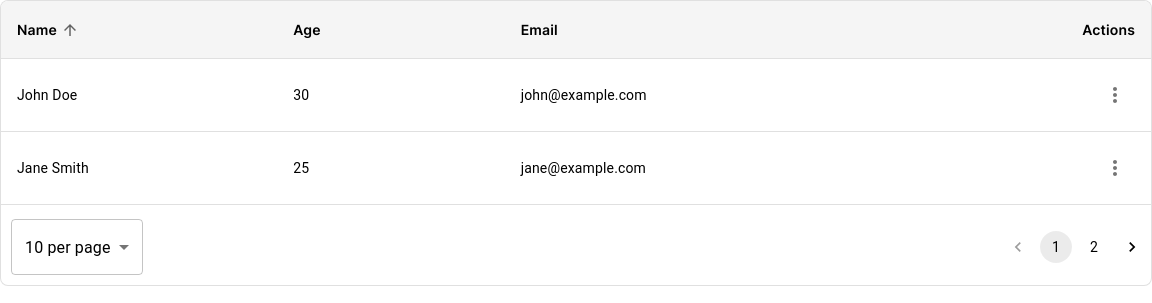
Test: DataTable › row actions › renders a labelled actions button per row and opens the menu
This screenshot has width=1152, height=303.
Expected: the column heading "Actions" is shown, 925,1 -> 1151,59
Expected: the text "Edit" is not shown
Step 1. Click the button named "Actions for John Doe" → (1115, 95), box 1095,75 -> 1135,115
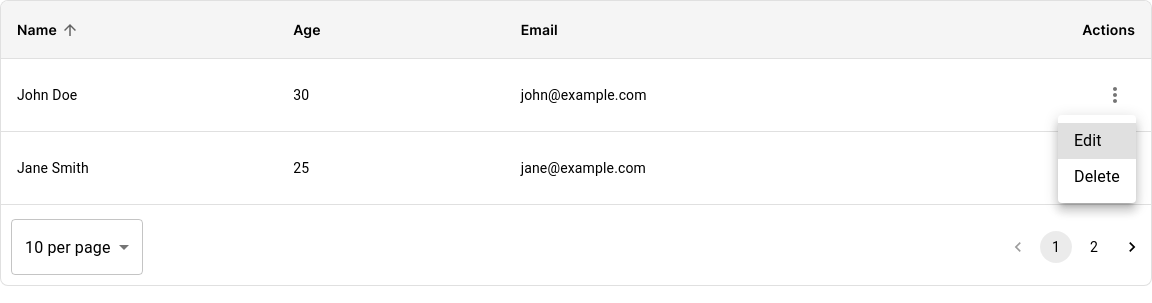
Now the menu item "Edit" is shown, box 1058,123 -> 1136,159
Now the menu item "Delete" is shown, box 1074,167 -> 1120,186
